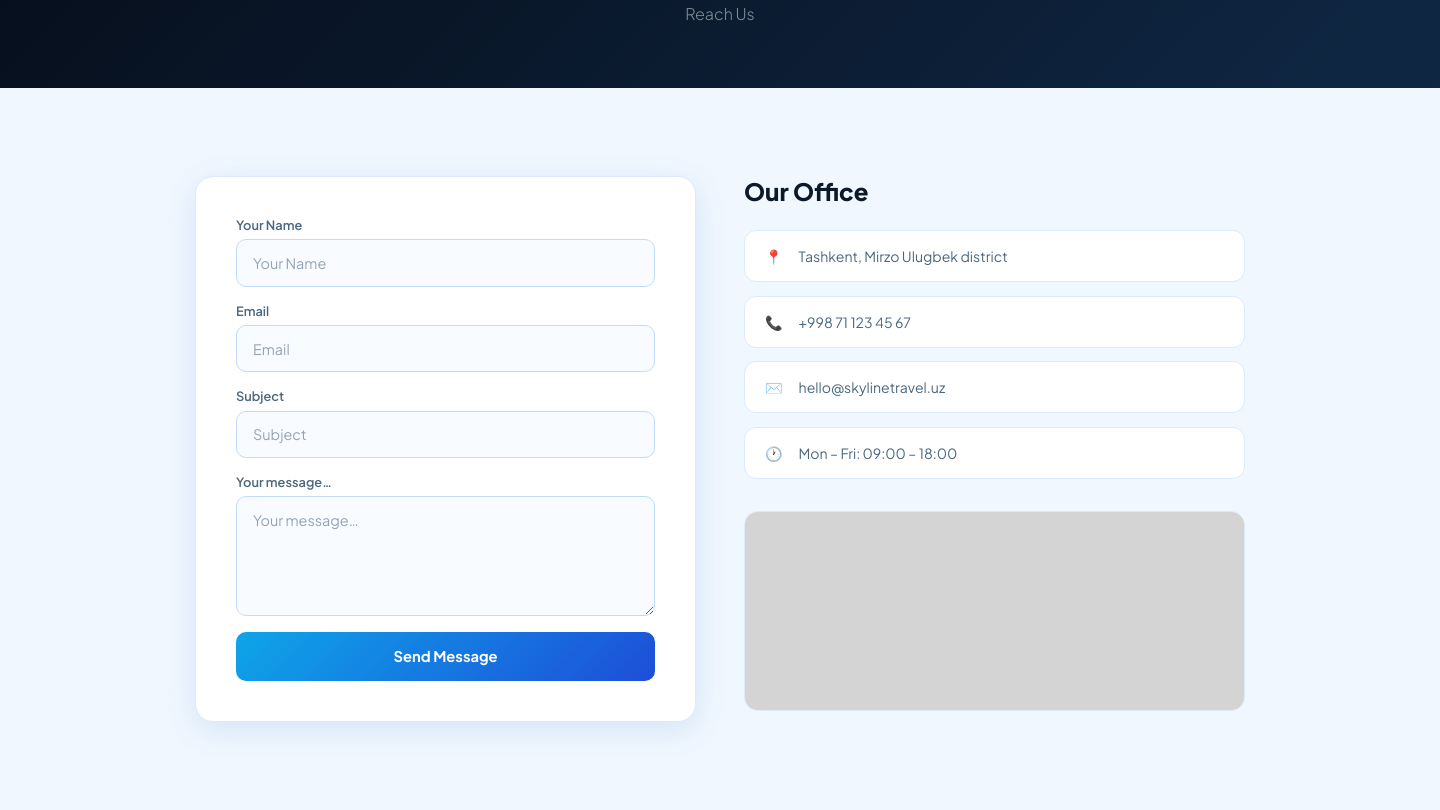
Test: Contact form validation › shows three required errors when submitting an empty form
(page scrolled)
Click the button "Send Message" at {"x": 446, "y": 656}, box x1=236 y1=632 x2=655 y2=680
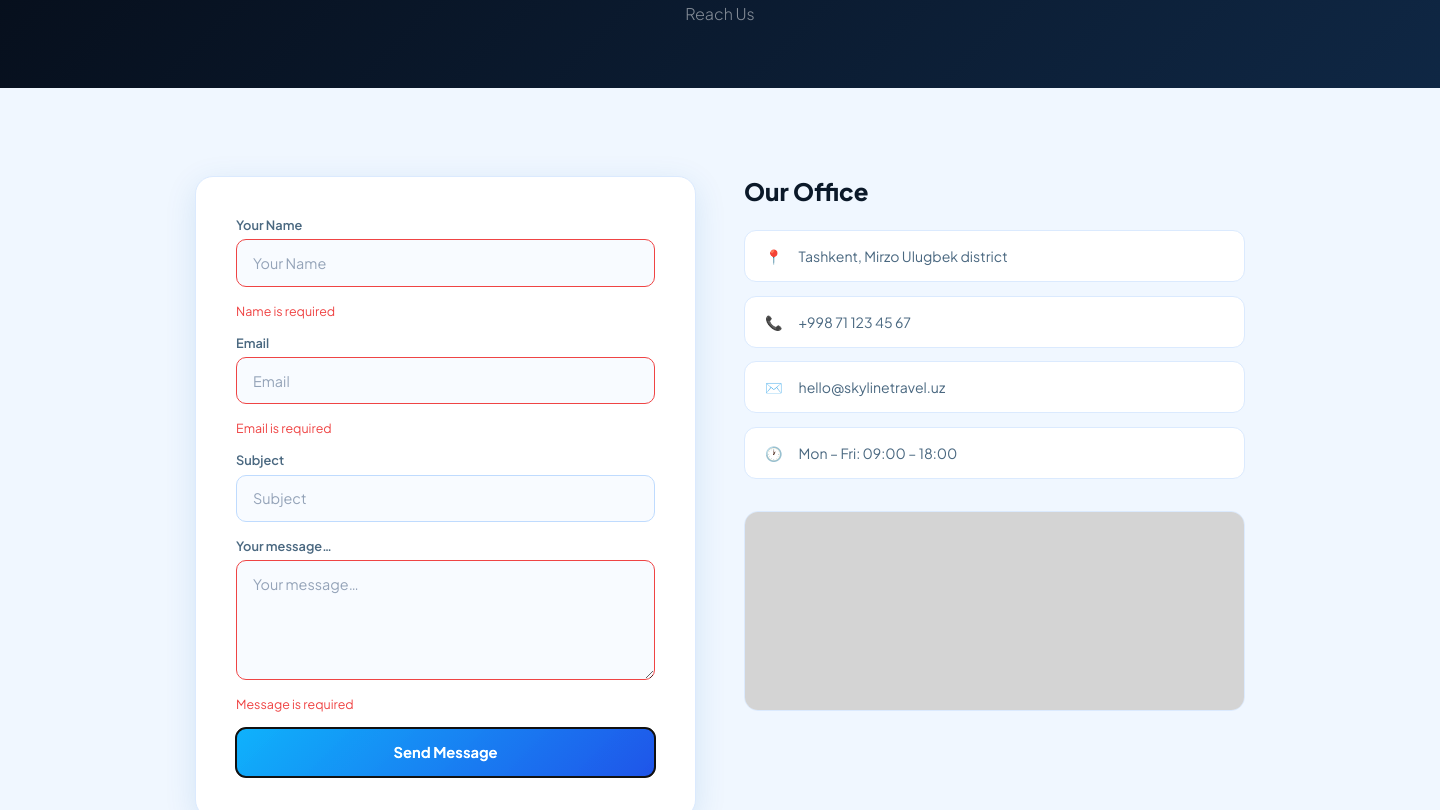
Expected: the text "Name is required" is shown, x1=236 y1=303 x2=335 y2=319
Expected: the text "Email is required" is shown, x1=236 y1=420 x2=332 y2=436
Expected: the text "Message is required" is shown, x1=236 y1=696 x2=354 y2=712
